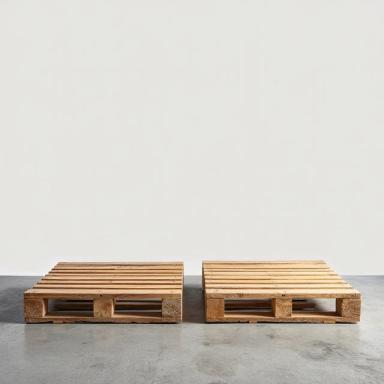pallet: (202, 260, 361, 324), (23, 261, 184, 323), (224, 298, 271, 320), (292, 299, 336, 316), (114, 298, 162, 312), (48, 298, 93, 311)
